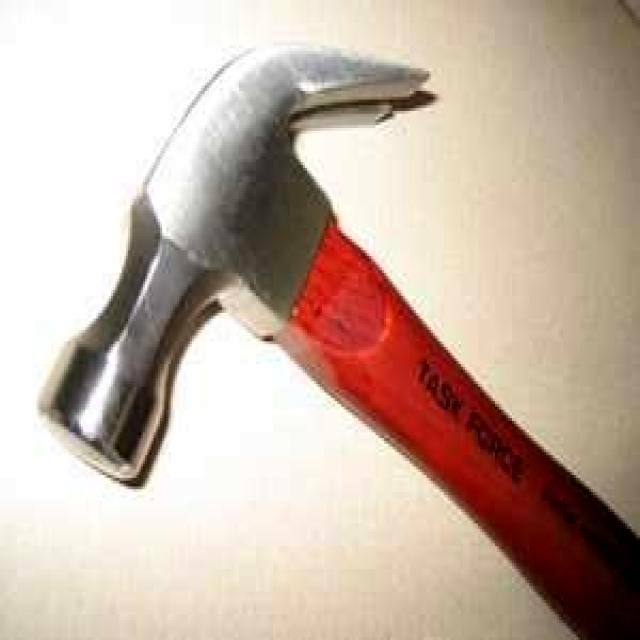hammer: (27, 38, 640, 638)
